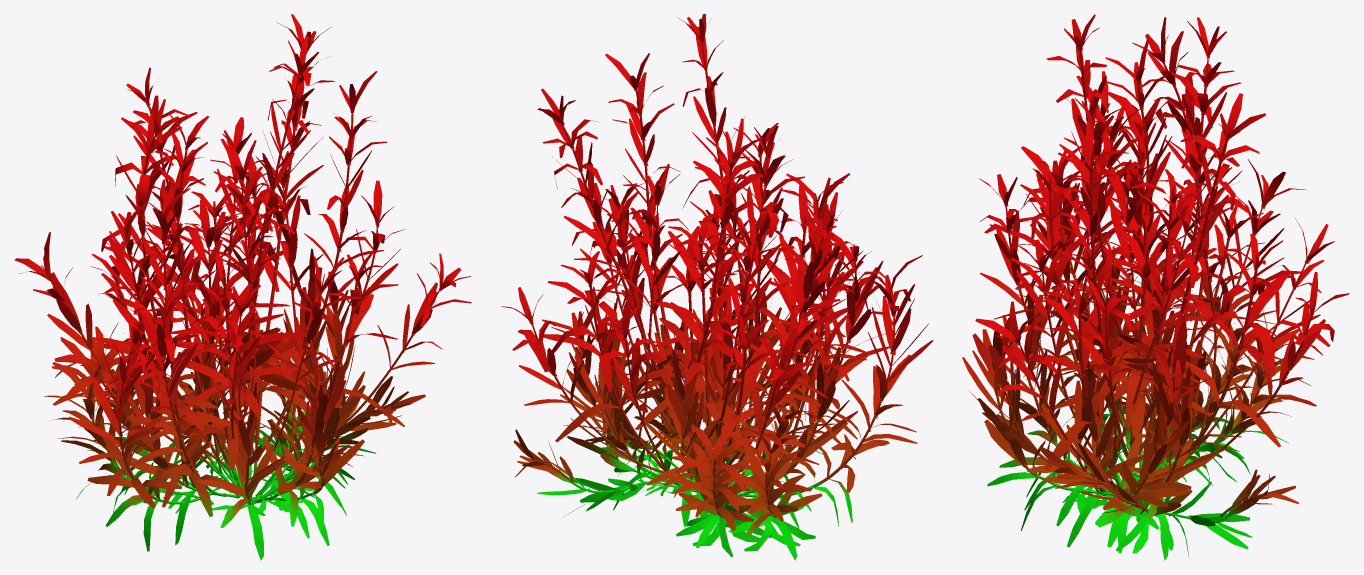
The model's file is Var1_LOD1.fbx.
The picture shows the model from 3 angles, left to right: view 1: azimuth 30°, elevation 25°; view 2: azimuth 150°, elevation 25°; view 3: azimuth 270°, elevation 25°; orthographic projection. The views are drawn at different scales.
Visible parts, largest first — view 1: _1vqy_Var1_LOD1; view 2: _1vqy_Var1_LOD1; view 3: _1vqy_Var1_LOD1.
Part boxes in pixels (<box>): _1vqy_Var1_LOD1: <box>14,14,471,560</box>; _1vqy_Var1_LOD1: <box>501,14,932,560</box>; _1vqy_Var1_LOD1: <box>962,14,1349,560</box>.
Size of the model in its own units: 32.03 by 42.08 by 28.58.
